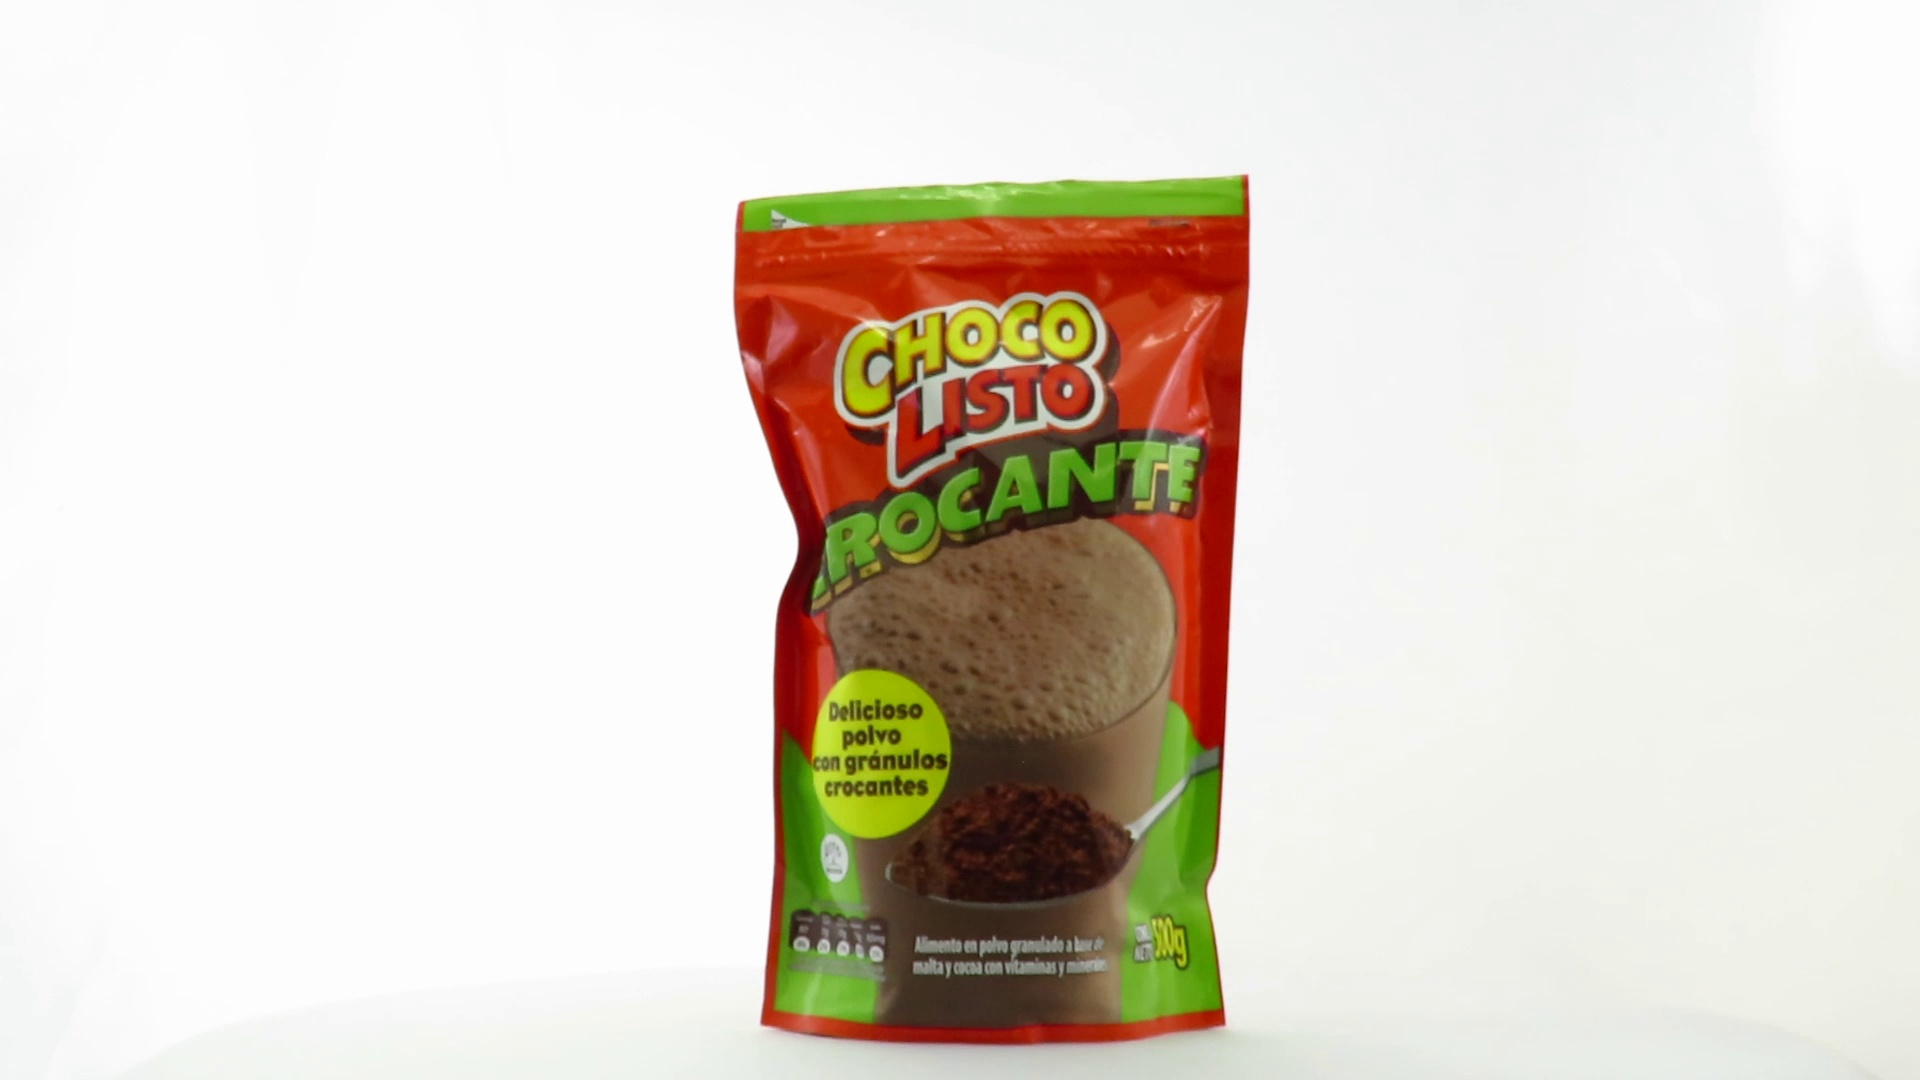COL0170102DYP50000: (728, 169, 1255, 1052)
